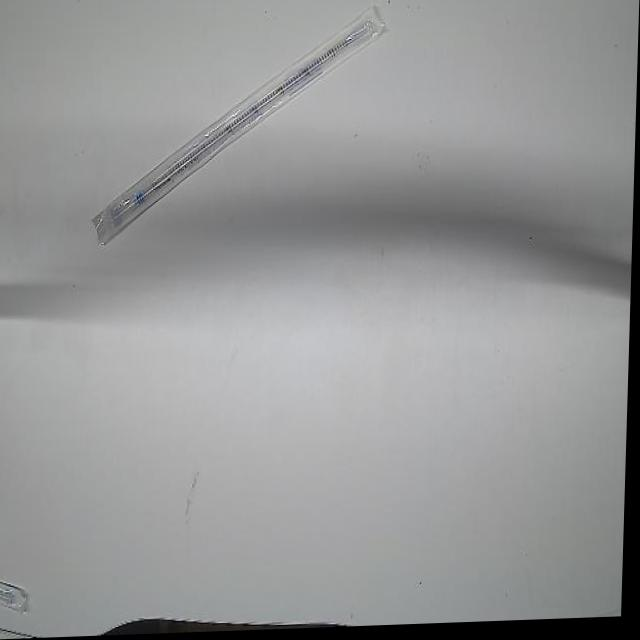Serelogical Pipet 5 mL: (91, 1, 389, 255)
